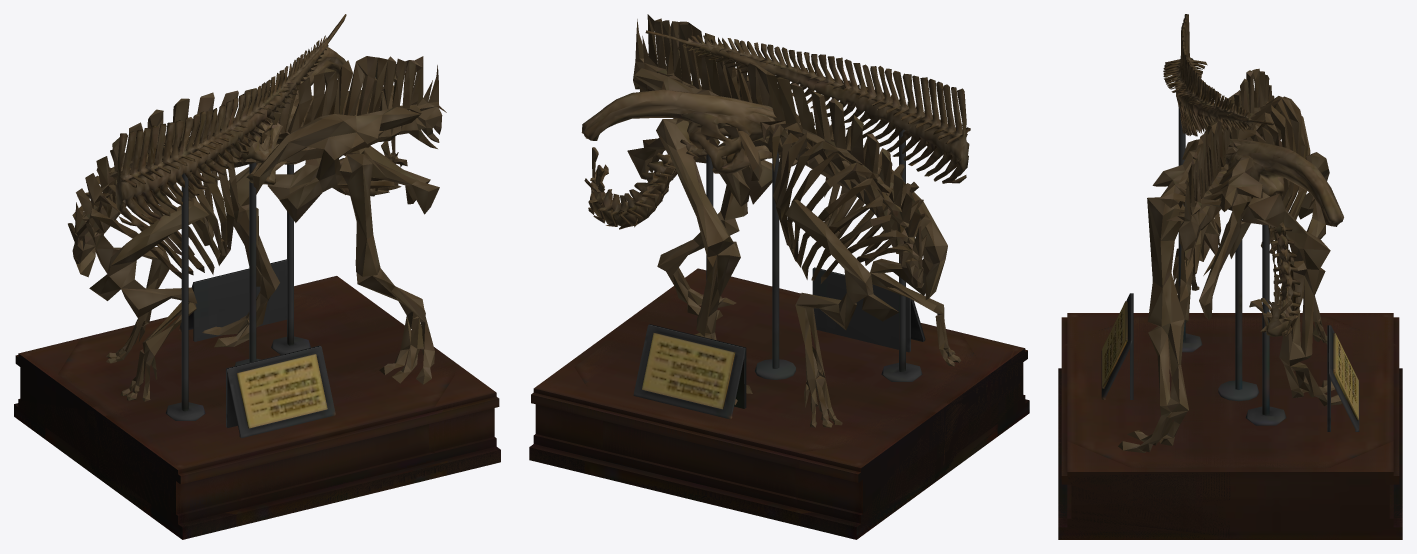
File: fossil-parasaur.glb
The picture shows the model from 3 angles, left to right: view 1: azimuth 30°, elevation 25°; view 2: azimuth 150°, elevation 25°; view 3: azimuth 270°, elevation 25°; orthographic projection. The views are drawn at different scales.
Visible parts, largest first — view 1: mFossilBaseEnd (×2), mFtrFossilParasaurolophusB, mFossilBaseMiddle, mFtrFossilParasaurolophusC, mFtrFossilParasaurolophusA; view 2: mFossilBaseEnd (×2), mFossilBaseMiddle, mFtrFossilParasaurolophusB, mFtrFossilParasaurolophusC, mFtrFossilParasaurolophusA; view 3: mFossilBaseEnd (×2), mFtrFossilParasaurolophusB, mFossilBaseMiddle, mFtrFossilParasaurolophusA, mFtrFossilParasaurolophusC.
Part boxes in pixels (<box>): mFossilBaseEnd (×2): <box>14,164,500,539</box>; mFtrFossilParasaurolophusB: <box>68,56,446,401</box>; mFossilBaseMiddle: <box>14,162,500,539</box>; mFtrFossilParasaurolophusC: <box>115,14,346,227</box>; mFtrFossilParasaurolophusA: <box>241,47,407,196</box>; mFossilBaseEnd (×2): <box>529,129,1028,539</box>; mFossilBaseMiddle: <box>529,150,1029,539</box>; mFtrFossilParasaurolophusB: <box>627,14,961,427</box>; mFtrFossilParasaurolophusC: <box>645,30,970,183</box>; mFtrFossilParasaurolophusA: <box>581,89,797,229</box>; mFossilBaseEnd (×2): <box>1058,105,1402,539</box>; mFtrFossilParasaurolophusB: <box>1118,68,1341,452</box>; mFossilBaseMiddle: <box>1058,220,1402,539</box>; mFtrFossilParasaurolophusA: <box>1226,138,1343,336</box>; mFtrFossilParasaurolophusC: <box>1163,14,1273,136</box>.
Size of the model in its own units: 20.17 by 23.03 by 18.33.
Materials: 6 (6 with a texture image).
